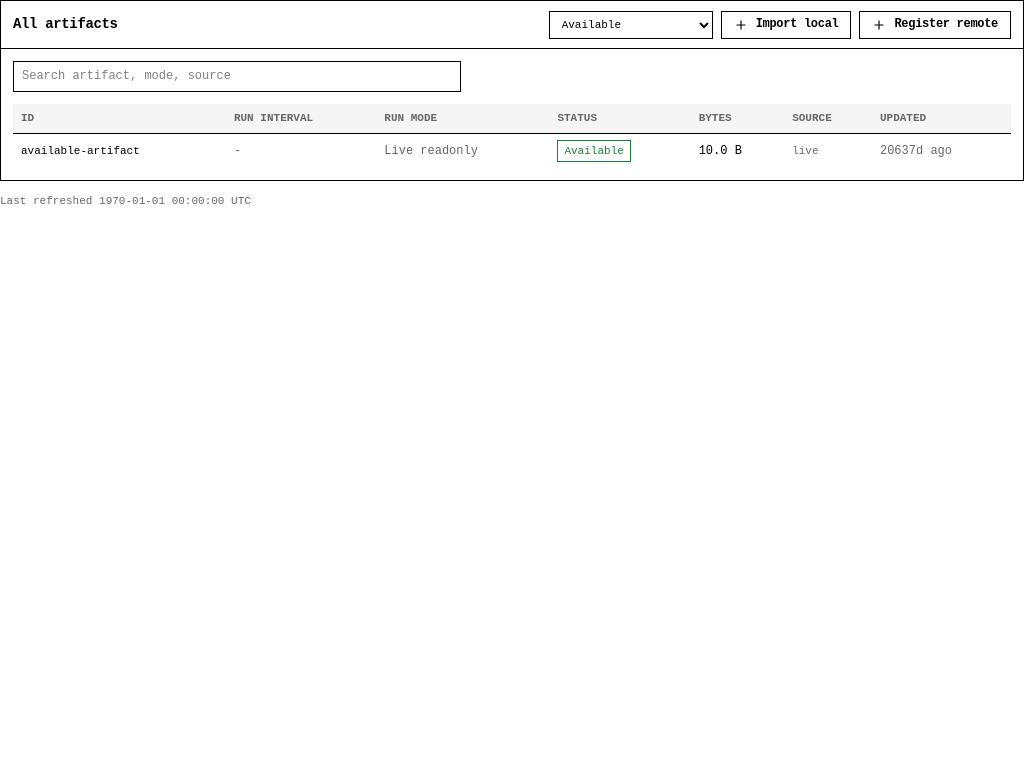
Test: ResearchArtifactsPage › resets unsaved remote register form state after cancelling
The image size is (1024, 768).
Click the button "Register remote" at (935, 24), box [860,10,1011,38]
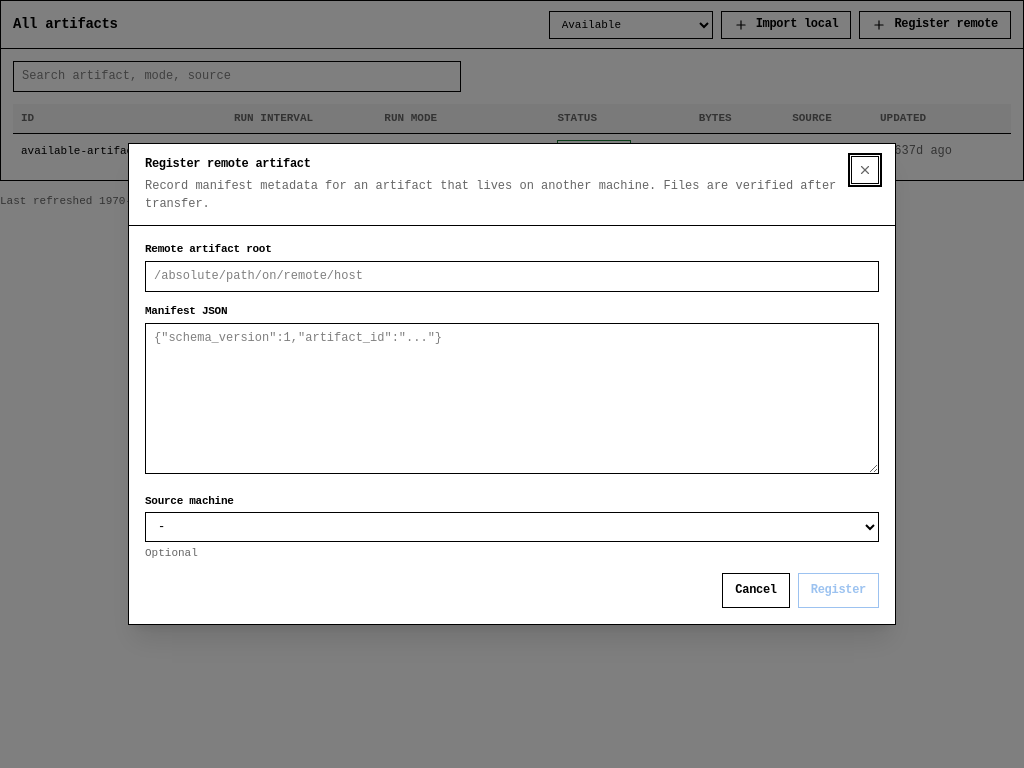
Check: the dialog is shown, box [128,143,896,625]
Type "/remote/artifact" into the field labelled "Remote artifact root" at (512, 276), box [145,261,879,292]
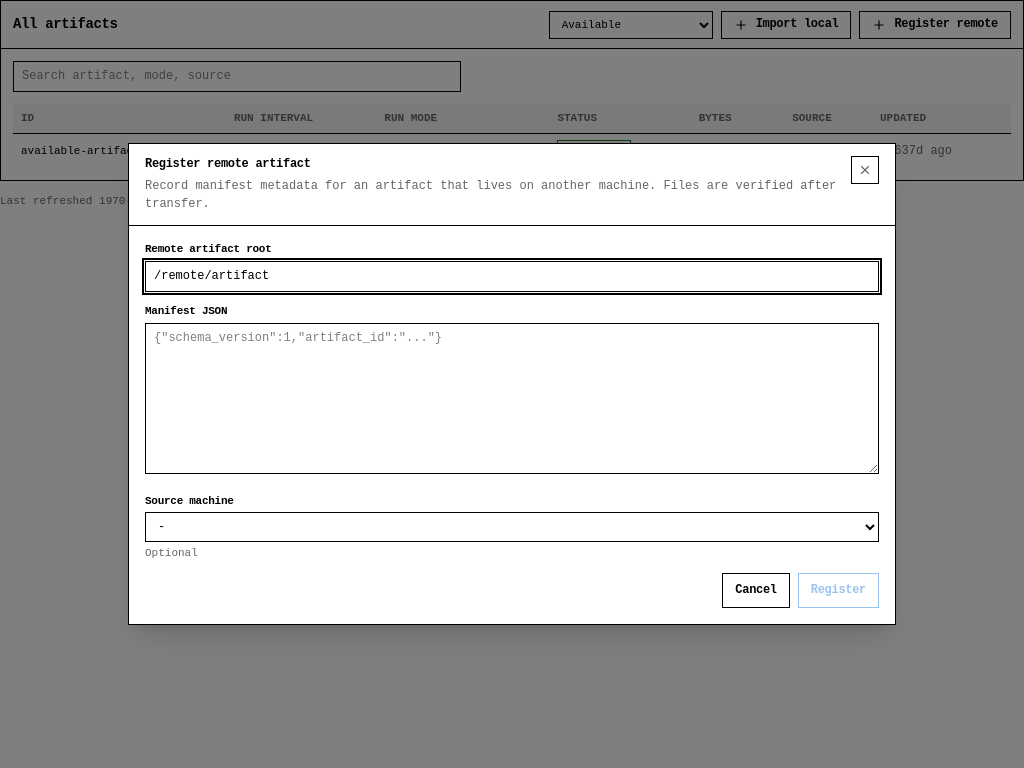
Type "draft manifest" into the text box labelled "Manifest JSON" at (512, 398), box [145,322,879,474]
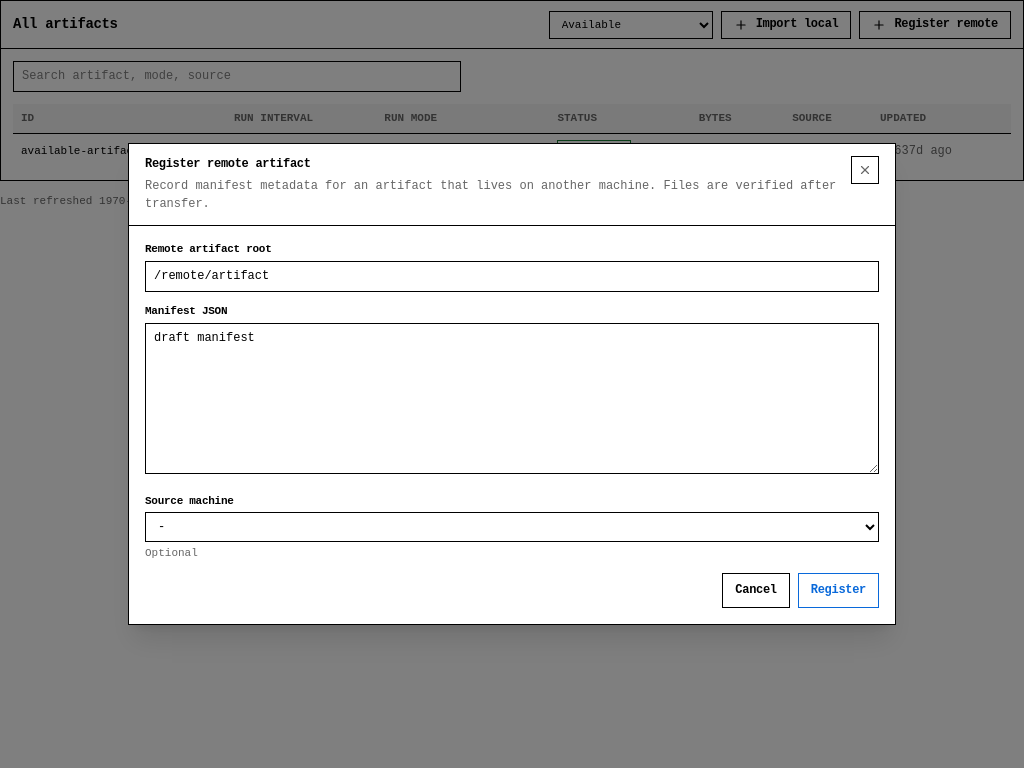
Select "live" in the dropdown labelled "Source machine" at (512, 527), box [145,512,879,542]
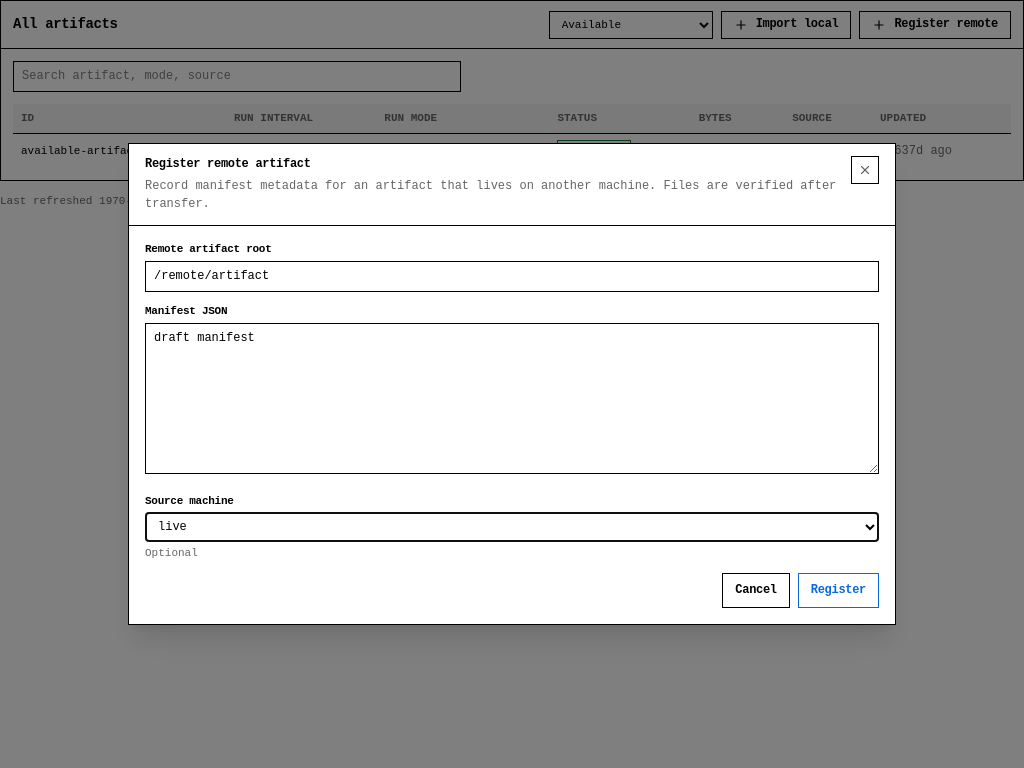
Click the button "Cancel" at (756, 590), box [722,573,790,608]
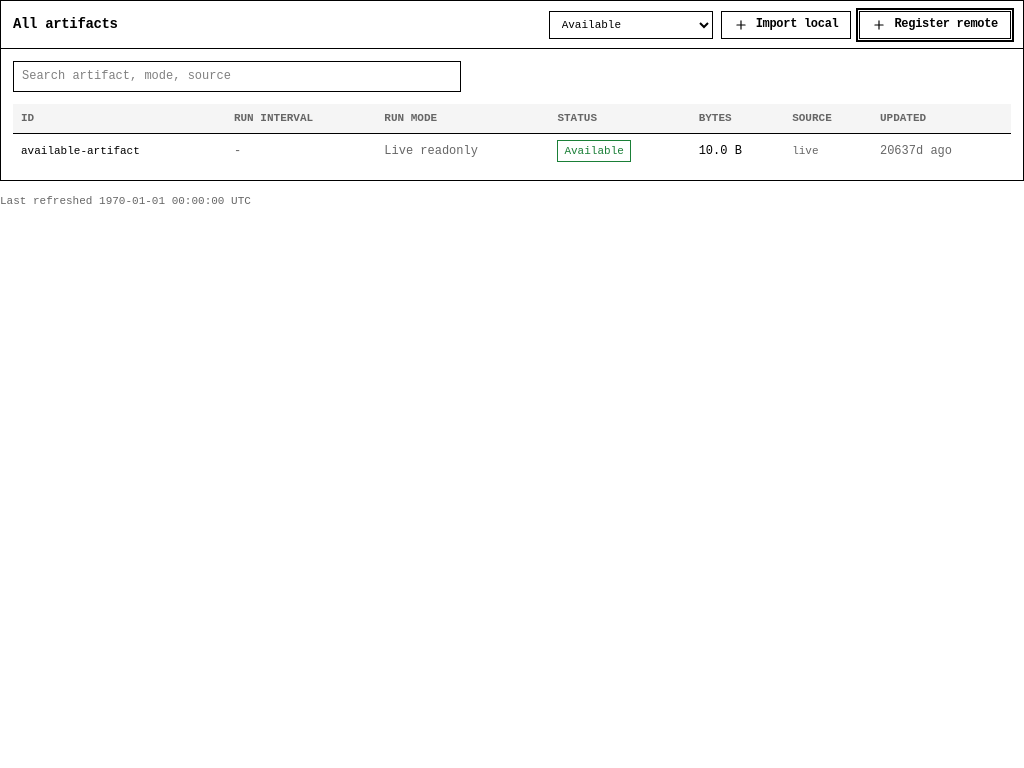
Click the button "Register remote" at (935, 24), box [860,10,1011,38]
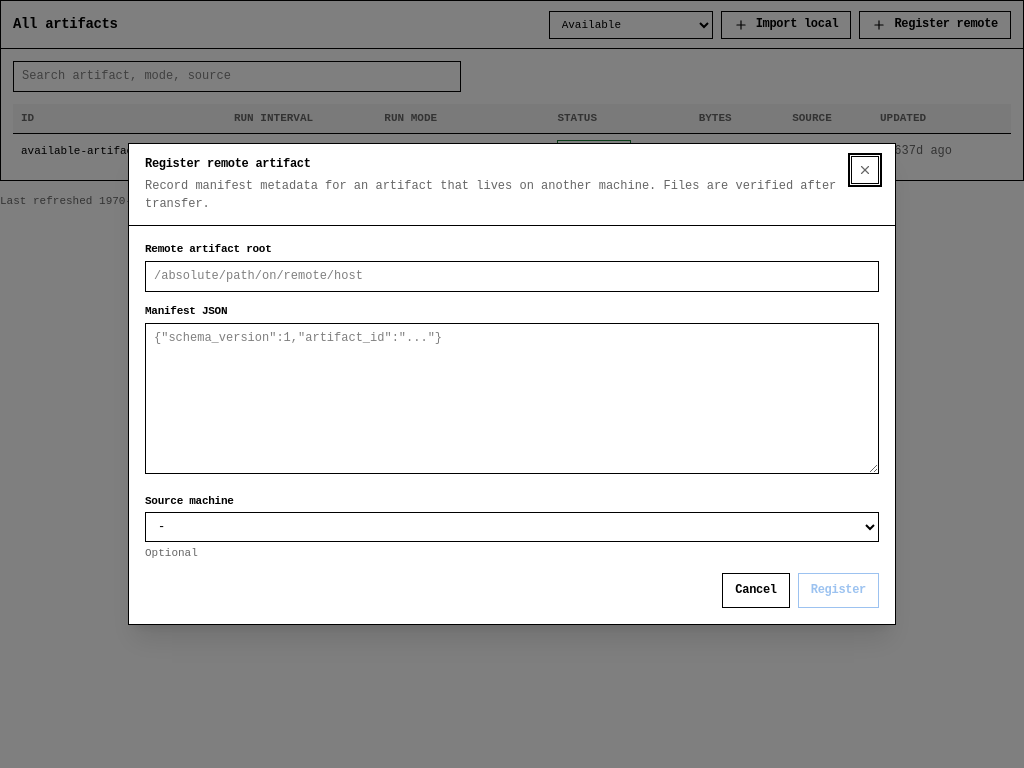
Check: the field labelled "Remote artifact root" is empty, box [145,261,879,292]
Check: the text box labelled "Manifest JSON" is empty, box [145,322,879,474]
Check: the dropdown labelled "Source machine" shows "-", box [145,512,879,542]
